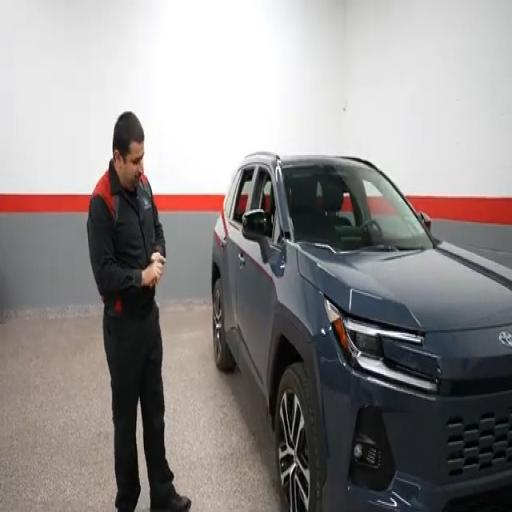bumper: (317, 352, 511, 511)
door: (236, 165, 283, 386)
emblem: (499, 332, 511, 348)
fog_light: (351, 407, 395, 490)
grille: (448, 410, 511, 476), (444, 485, 511, 511)
headlight: (325, 299, 437, 392)
hood: (300, 244, 511, 331)
side_mirror: (242, 210, 269, 261), (419, 212, 431, 230)
tire: (275, 363, 321, 511)
wheel: (275, 363, 320, 511), (212, 278, 235, 372)
window: (256, 167, 276, 240), (231, 168, 254, 224), (224, 171, 239, 217)
windshield: (283, 163, 432, 250)
